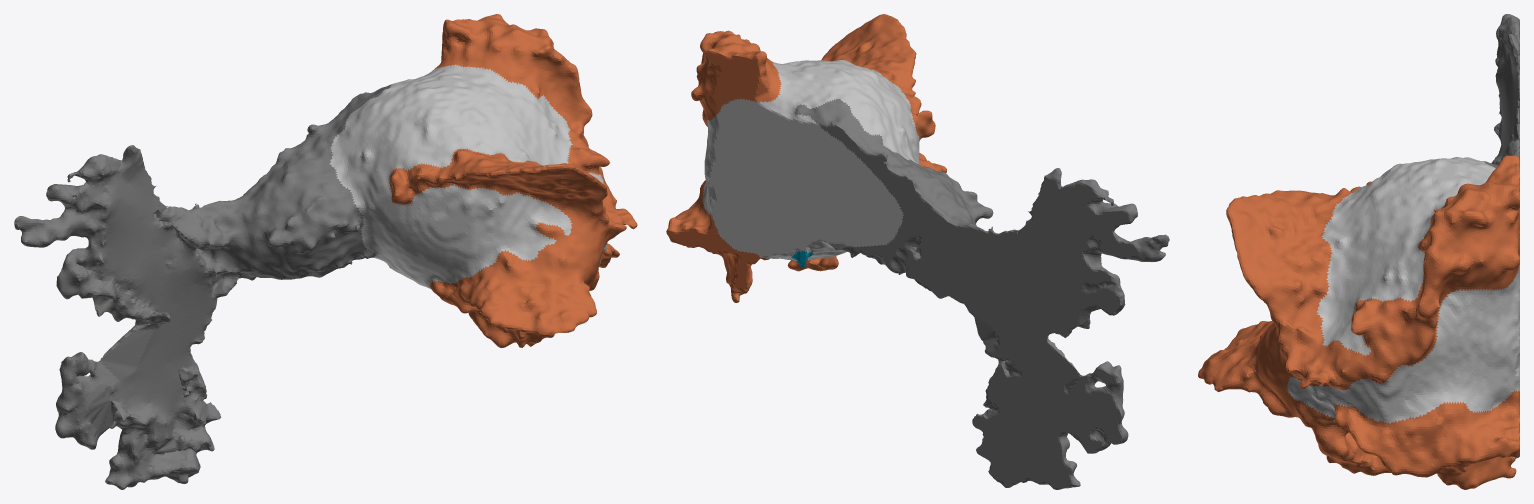
The picture shows the model from 3 angles, left to right: view 1: azimuth 30°, elevation 25°; view 2: azimuth 150°, elevation 25°; view 3: azimuth 270°, elevation 25°; orthographic projection. The views are drawn at different scales.
Size of the model in its own units: 218 by 152 by 99.34.
